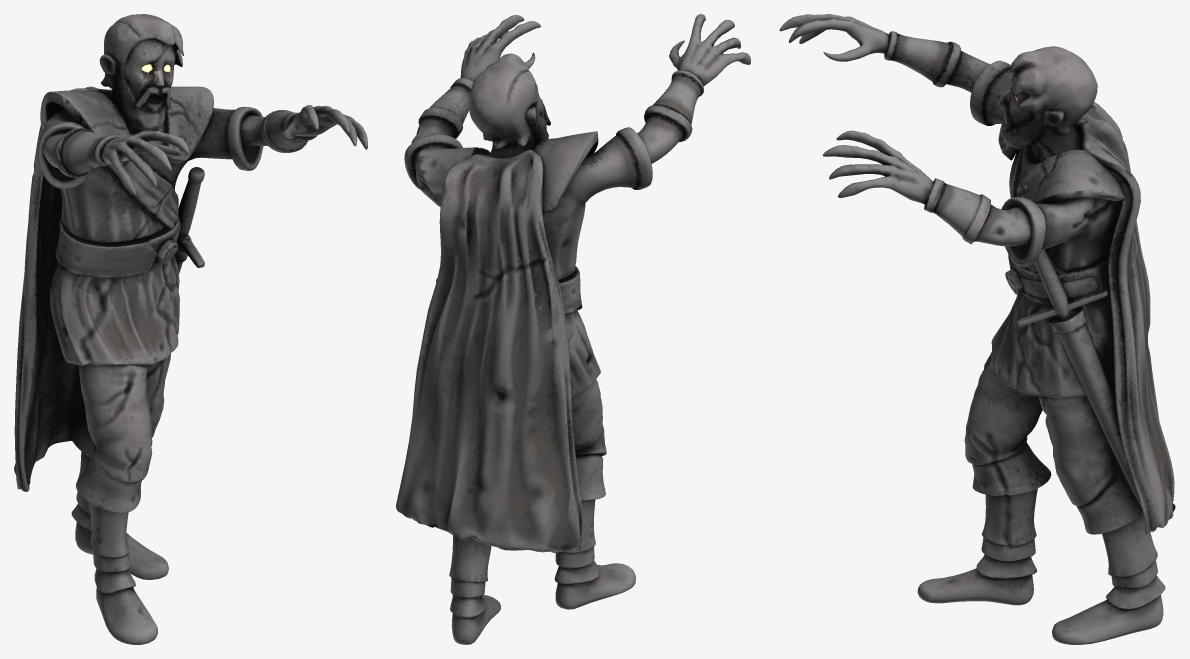
Rendered from MZ4250 - Stone Cursed.glb.
3 views of the same model, side by side, from view 1: azimuth 30°, elevation 25°; view 2: azimuth 150°, elevation 25°; view 3: azimuth 270°, elevation 25° (orthographic). The views are drawn at different scales.
Visible parts, largest first — view 1: Body.002; view 2: Body.002; view 3: Body.002.
Part boxes in pixels (x1,y1,x2,y2): Body.002: (14,14,367,644); Body.002: (396,14,750,644); Body.002: (779,14,1175,644).
Bounding box in the file's own units: 0.4557 × 0.9318 × 0.5754.
Materials: 1 (1 with a texture image).
